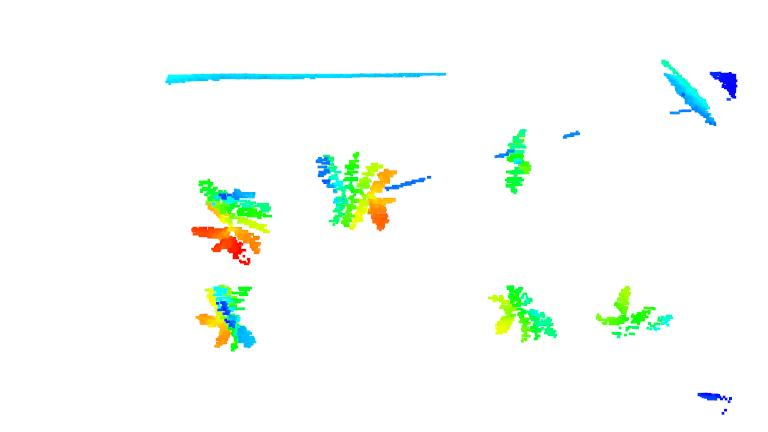chickpea: (186, 177, 273, 265), (315, 148, 397, 235), (592, 285, 675, 343), (194, 282, 260, 353), (489, 282, 558, 346), (500, 125, 534, 196)
